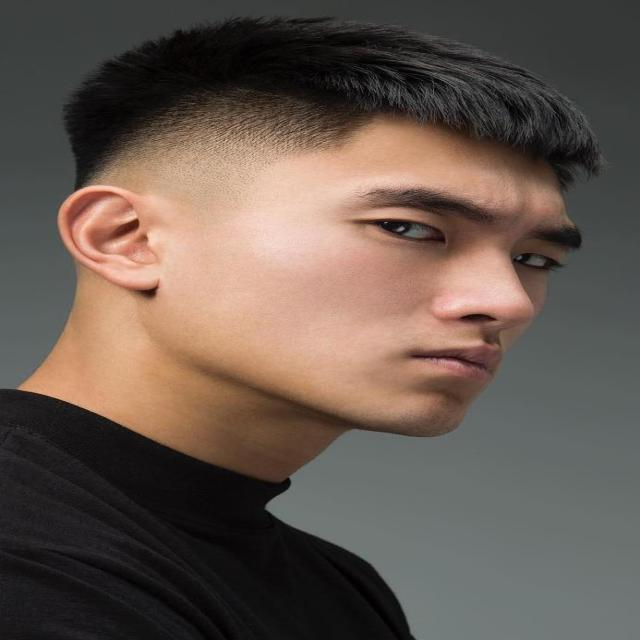mobile_phonerotation: (3, 13, 605, 637)
